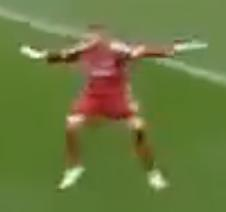goalkeeper: (10, 9, 216, 203)
